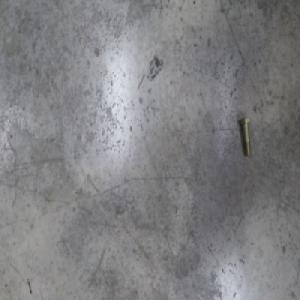Bolt: (239, 115, 251, 157)
